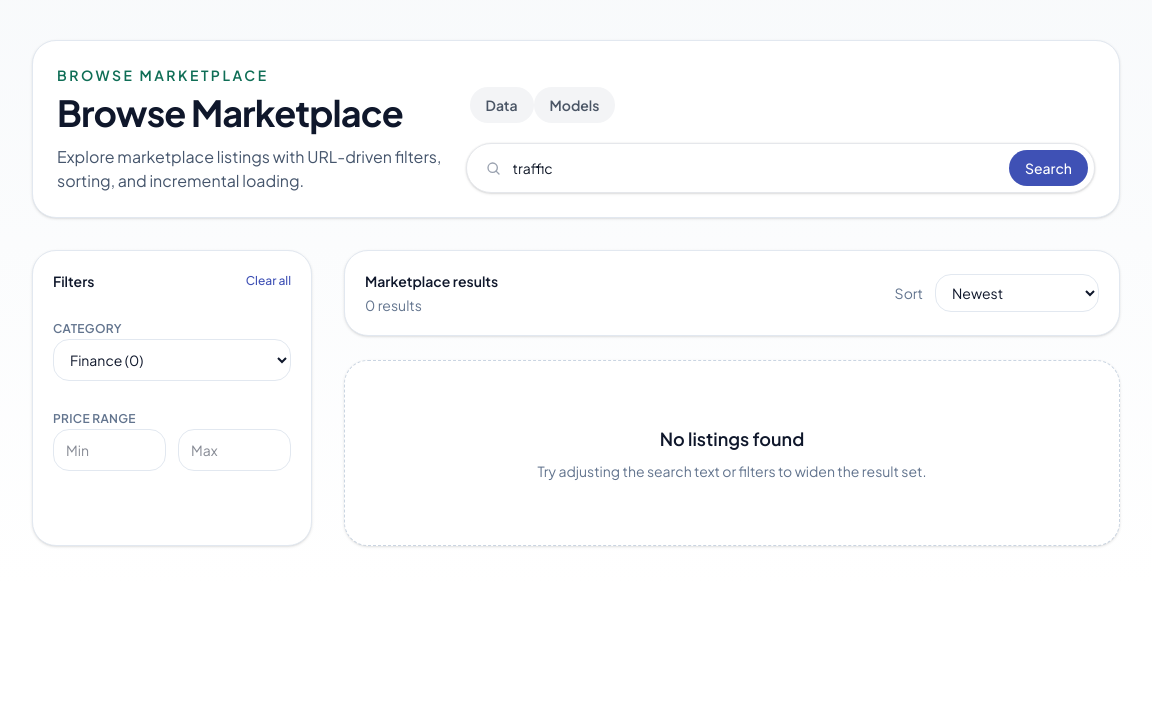
MarketplaceSearchExperience › does not restore an old search after clearing a pending price edit
Step 1. Type "10" into the number field named "Minimum price" → (110, 450), box top-left (53, 429), bottom-right (166, 471)
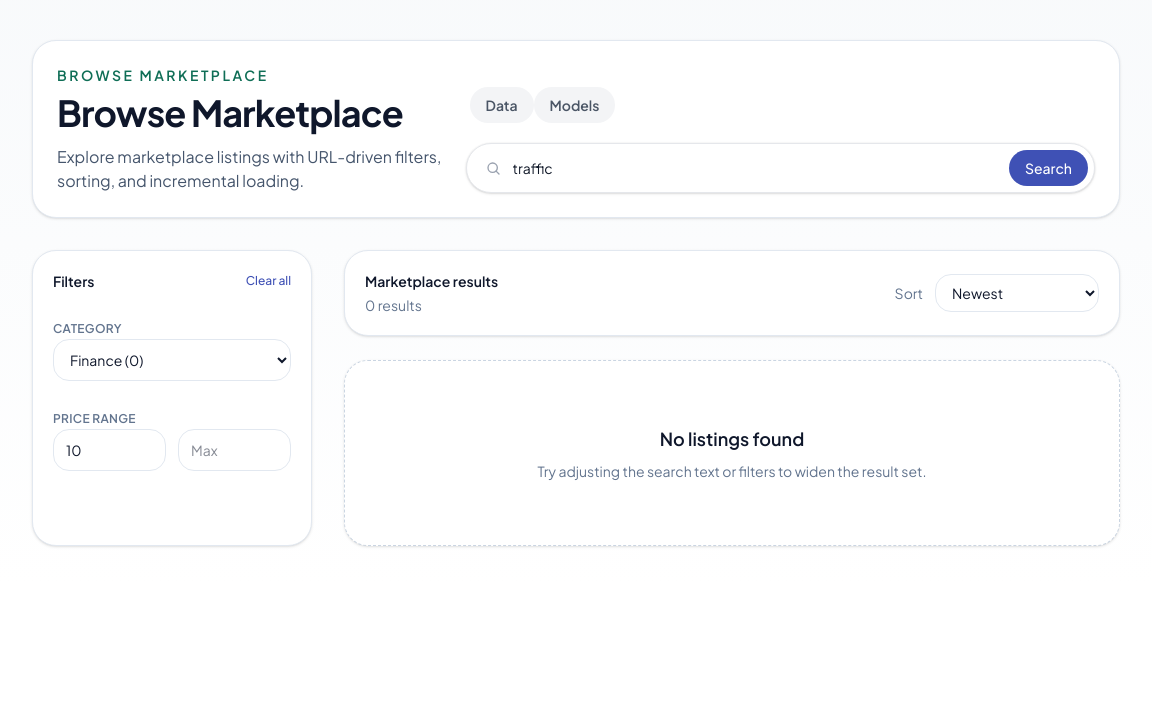
Step 2. Click the button "Clear all" → (268, 281), box top-left (246, 273), bottom-right (291, 289)
Wait 500 ms
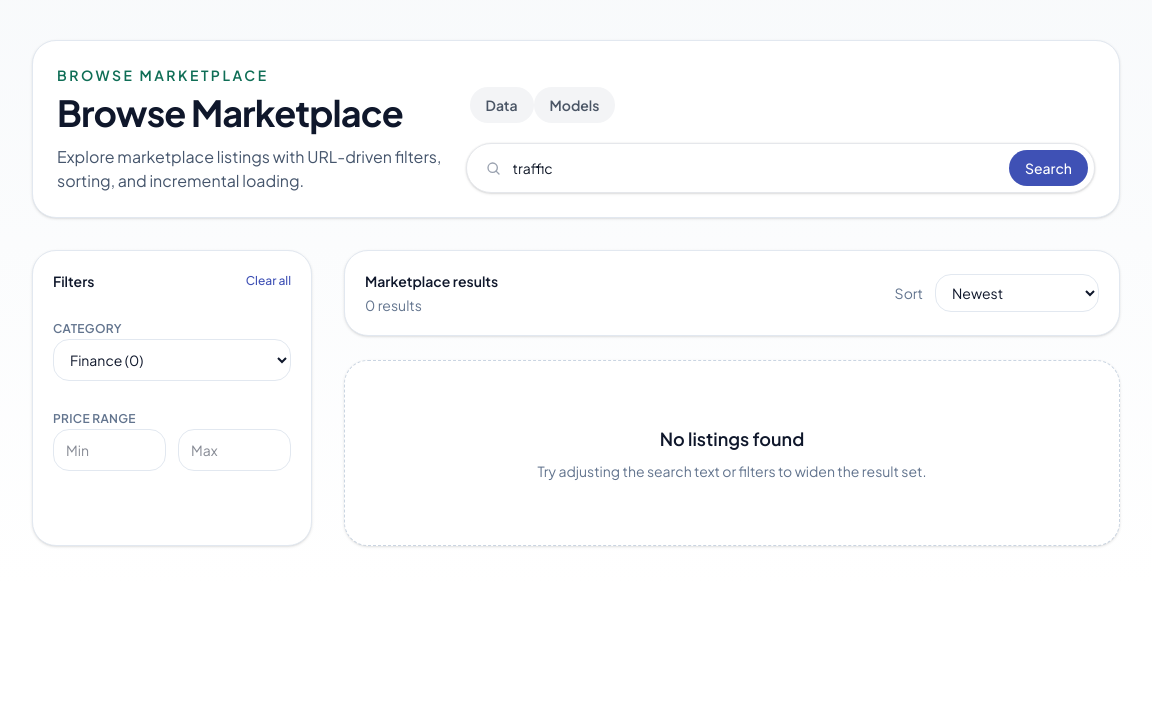
Result: the number field named "Minimum price" is empty at top-left (53, 429), bottom-right (166, 471)
